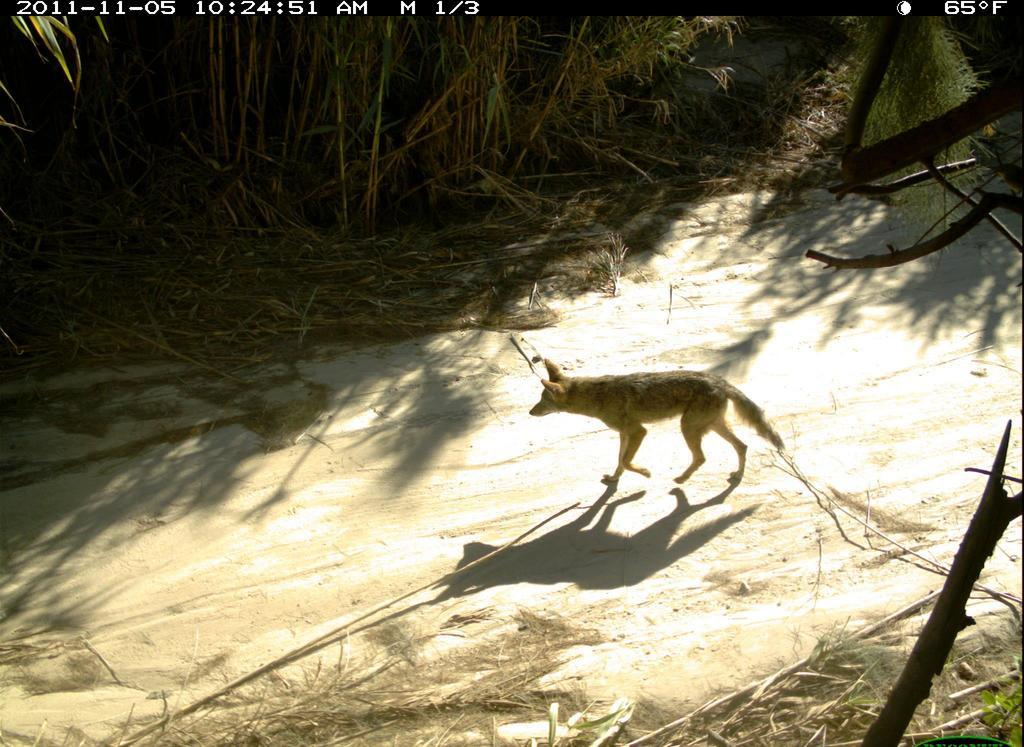coyote: (528, 353, 789, 495)
